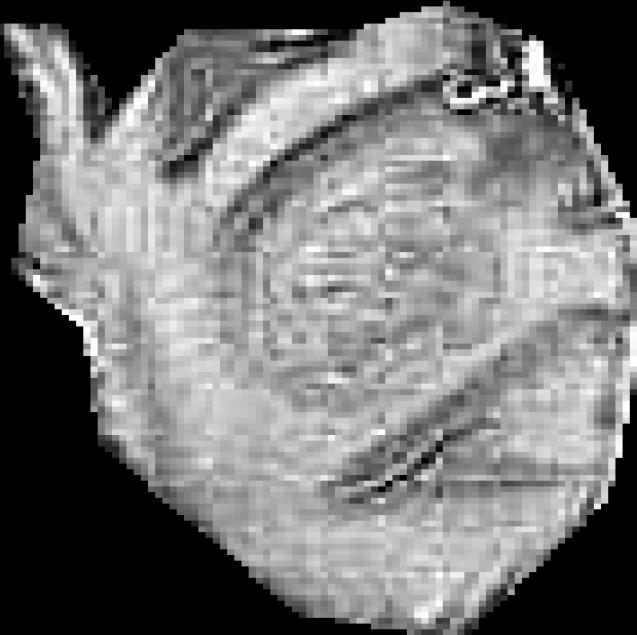tumor_moderate_chance: (1, 1, 637, 635)
